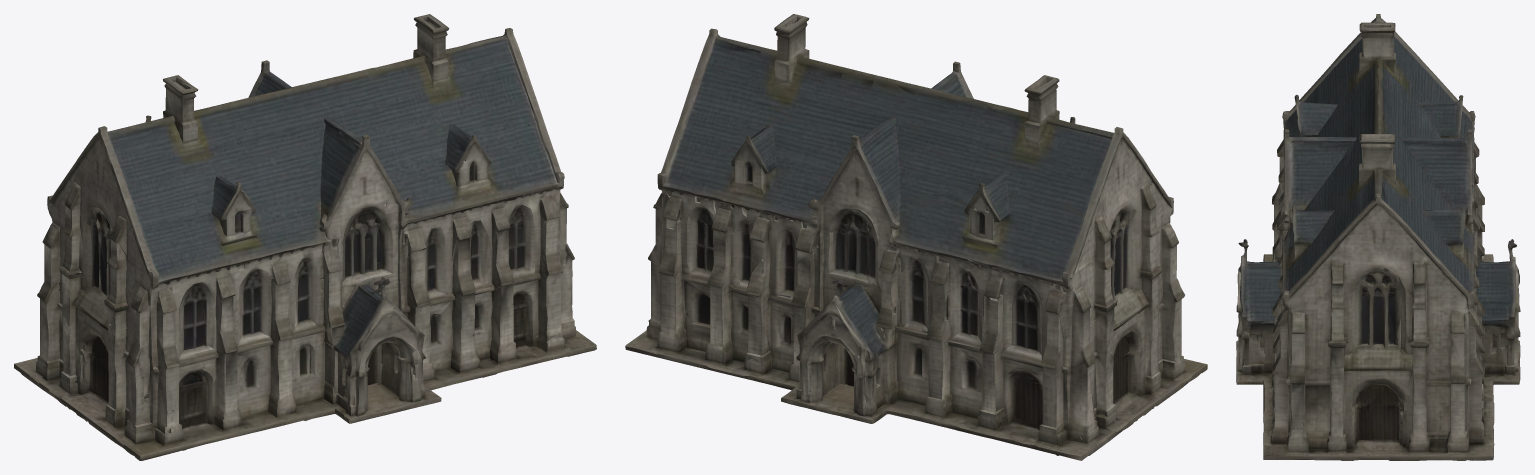
The model's file is throne-hall.glb.
The picture shows the model from 3 angles, left to right: view 1: azimuth 30°, elevation 25°; view 2: azimuth 150°, elevation 25°; view 3: azimuth 270°, elevation 25°; orthographic projection. The views are drawn at different scales.
Parts seen in each view (by area): view 1: geometry_0; view 2: geometry_0; view 3: geometry_0.
Part boxes in pixels (x1,y1,x2,y2): geometry_0: (14,14,596,460); geometry_0: (625,14,1207,460); geometry_0: (1236,14,1520,460).
Size of the model in its own units: 1.8 by 1.16 by 1.07.
Materials: 1 (1 with a texture image).
